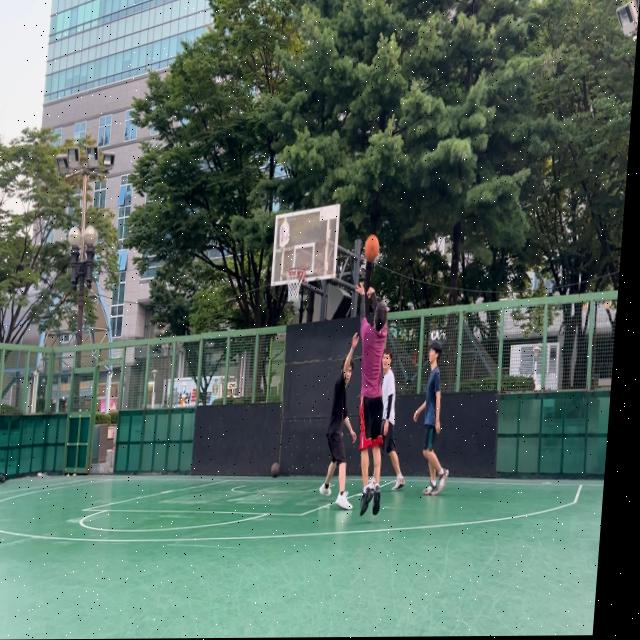basketball: (364, 234, 380, 262), (270, 462, 281, 478)
hoop: (284, 267, 306, 303)
